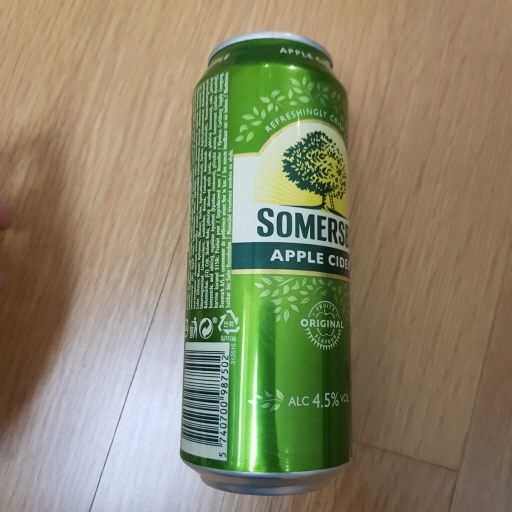Metal_0: (176, 29, 361, 497)
